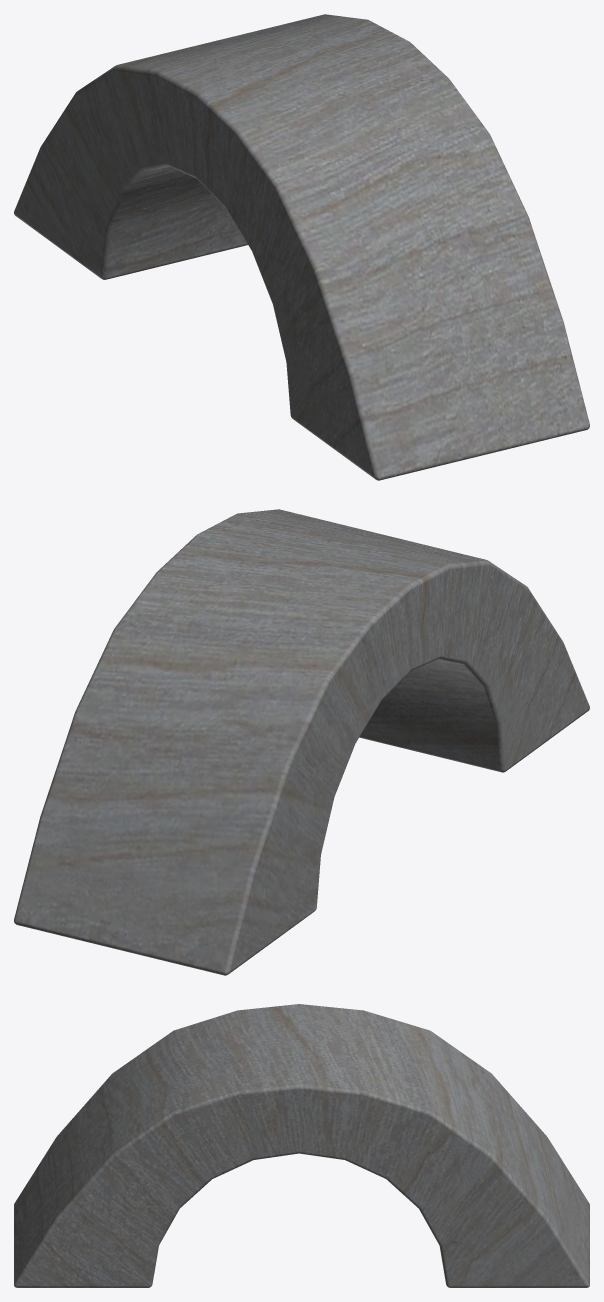
Rendered from Bridge.obj.
The picture shows the model from 3 angles, top to bottom: view 1: azimuth 30°, elevation 25°; view 2: azimuth 150°, elevation 25°; view 3: azimuth 270°, elevation 25°; orthographic projection. The views are drawn at different scales.
Visible parts, largest first — view 1: Bridge; view 2: Bridge; view 3: Bridge.
Boxes of the visible parts, <box> form: Bridge: <box>14,14,589,480</box>; Bridge: <box>14,509,589,975</box>; Bridge: <box>14,1004,589,1287</box>.
Size of the model in its own units: 200 by 228 by 586.
1 material, 1 textured.
